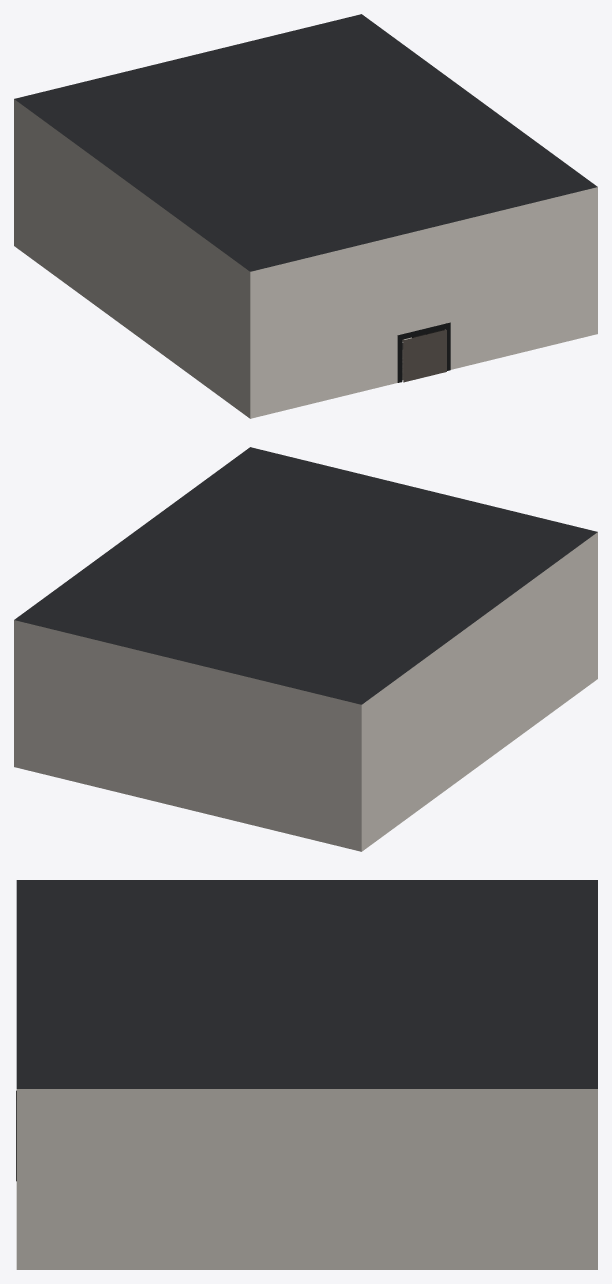
The model's file is hall_m.glb.
3 views of the same model, one above another, from view 1: azimuth 30°, elevation 25°; view 2: azimuth 150°, elevation 25°; view 3: azimuth 270°, elevation 25° (orthographic). The views are drawn at different scales.
Visible parts, largest first — view 1: H_a, view; view 2: H_a; view 3: H_a.
Part boxes in pixels (bbox=[...]): H_a: bbox=[14, 14, 597, 418]; view: bbox=[403, 329, 446, 382]; H_a: bbox=[14, 447, 597, 851]; H_a: bbox=[16, 880, 597, 1269].
Size of the model in its own units: 39.6 by 16 by 46.8.
Materials: 188 (173 with a texture image).
